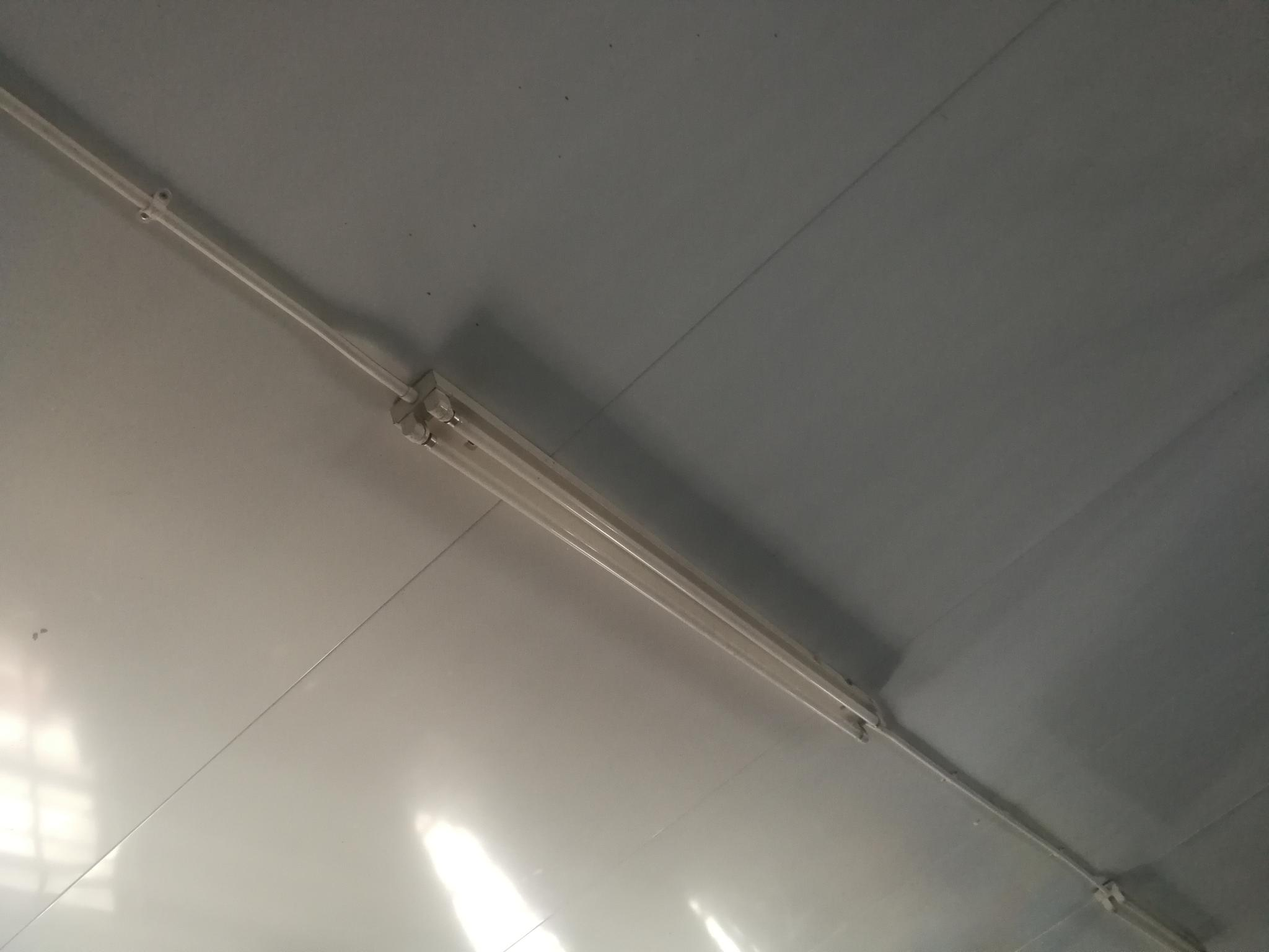light: (386, 364, 881, 744)
